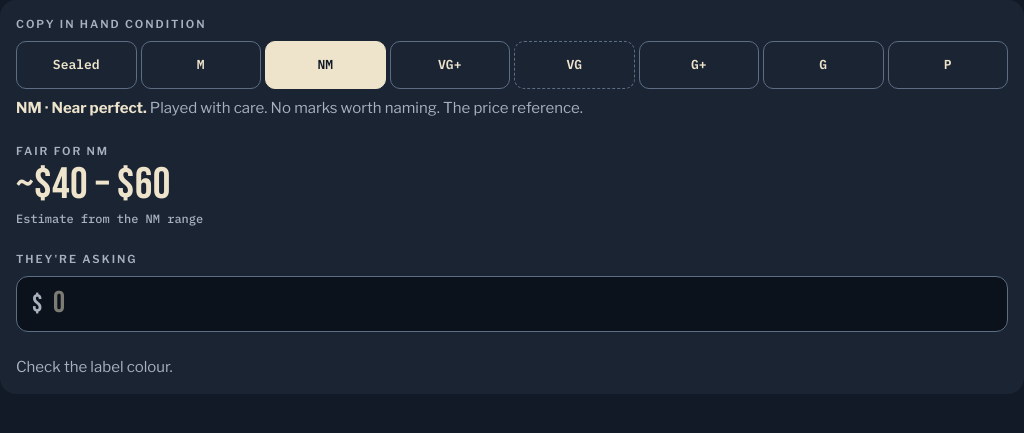
PriceCheck › shifts the fair range with the grade of the copy in hand
This screenshot has width=1024, height=433.
Check: the text "~$40 – $60" is shown, box [16,158,171,211]
Click the radio button labelled "VG" at (574, 64), box [514,40,634,88]
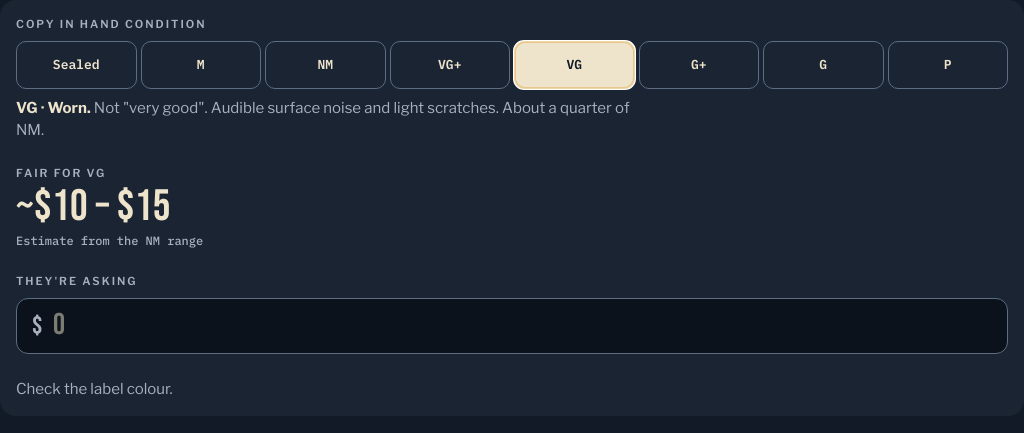
Check: the text "Estimate from the NM range" is shown, box [16,233,203,248]
Check: the text "~$10 – $15" is shown, box [16,180,171,233]
Check: the text "Not \"very good\"" is shown, box [16,98,630,138]
